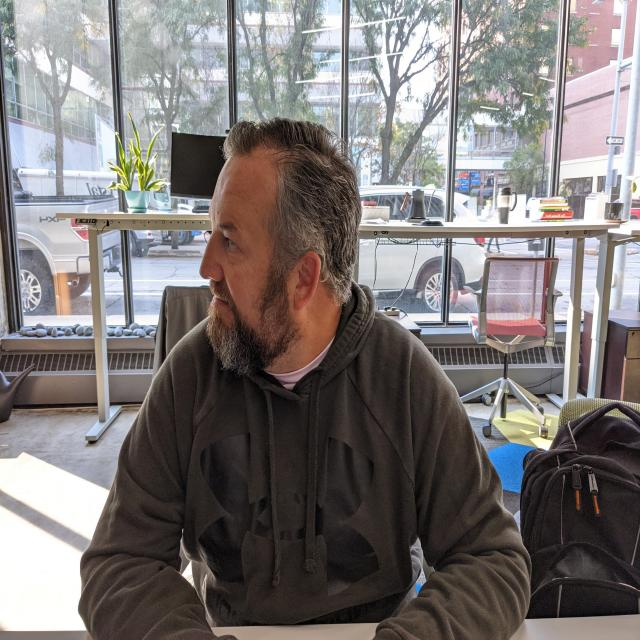face: (198, 172, 314, 381)
